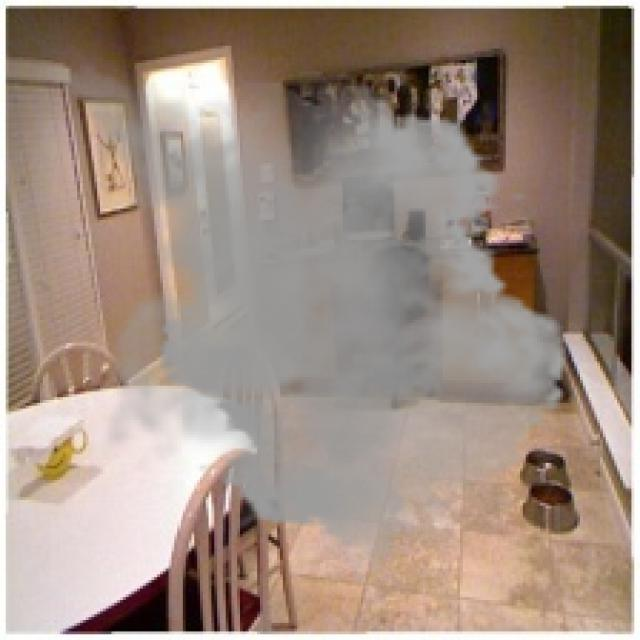smoke: (14, 51, 583, 586)
